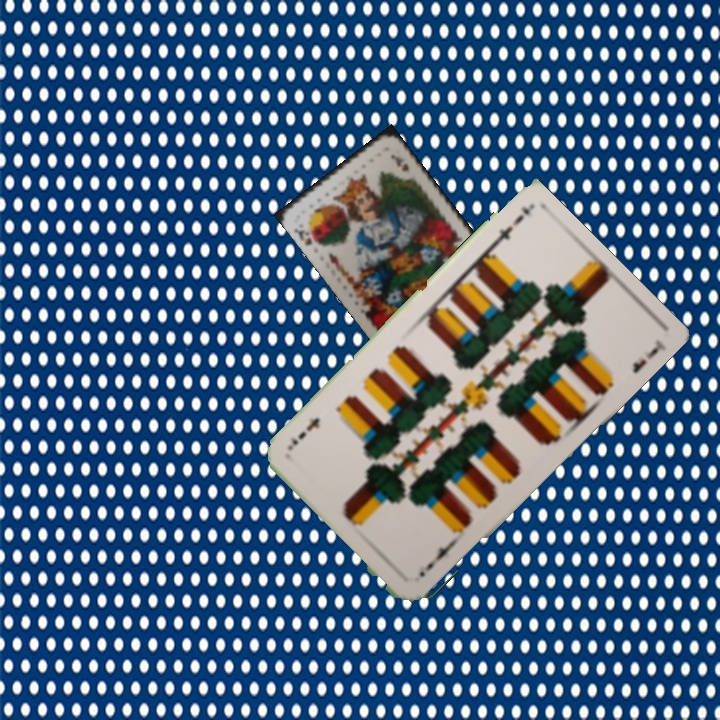E7: (415, 538, 457, 580), (485, 210, 527, 252)
SK: (290, 224, 325, 249)
